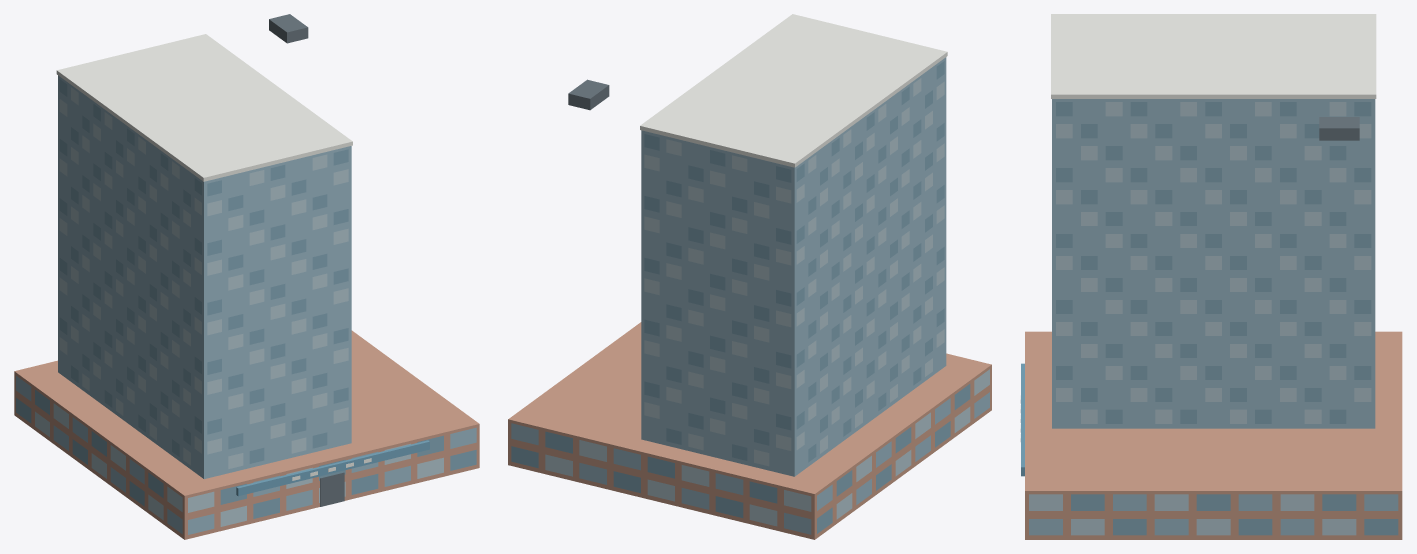
File: sky-building-4.glb
The picture shows the model from 3 angles, left to right: view 1: azimuth 30°, elevation 25°; view 2: azimuth 150°, elevation 25°; view 3: azimuth 270°, elevation 25°; orthographic projection. The views are drawn at different scales.
Bounding box in the file's own units: 14.02 × 16 × 14.18.
